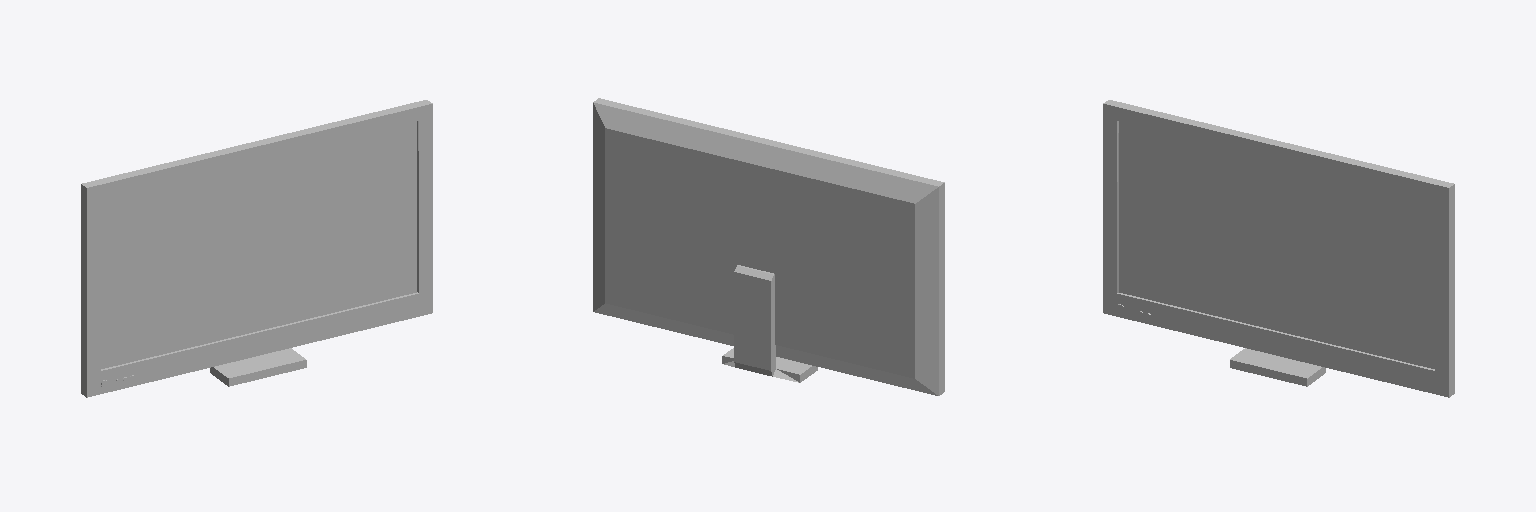
3 views of the same model, side by side, from view 1: azimuth 30°, elevation 25°; view 2: azimuth 150°, elevation 25°; view 3: azimuth 330°, elevation 25° (orthographic).
Parts seen in each view (by area): view 1: House_Pack.obj00f856ee-0940-472c-bbf3-ebf873640a90.001; view 2: House_Pack.obj00f856ee-0940-472c-bbf3-ebf873640a90.001; view 3: House_Pack.obj00f856ee-0940-472c-bbf3-ebf873640a90.001.
Part boxes in pixels (x1,y1,x2,y2): House_Pack.obj00f856ee-0940-472c-bbf3-ebf873640a90.001: (81,100,432,397); House_Pack.obj00f856ee-0940-472c-bbf3-ebf873640a90.001: (593,98,944,395); House_Pack.obj00f856ee-0940-472c-bbf3-ebf873640a90.001: (1103,100,1454,397).
Bounding box in the file's own units: 23.75 × 14.81 × 2.75.